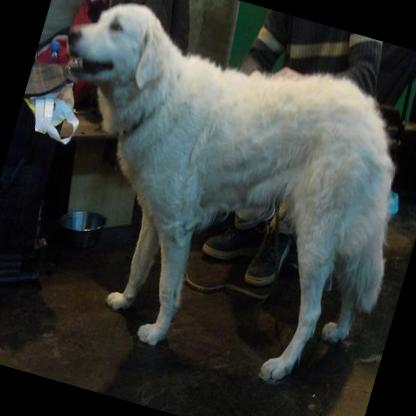kuvasz: (0, 0, 416, 408)
